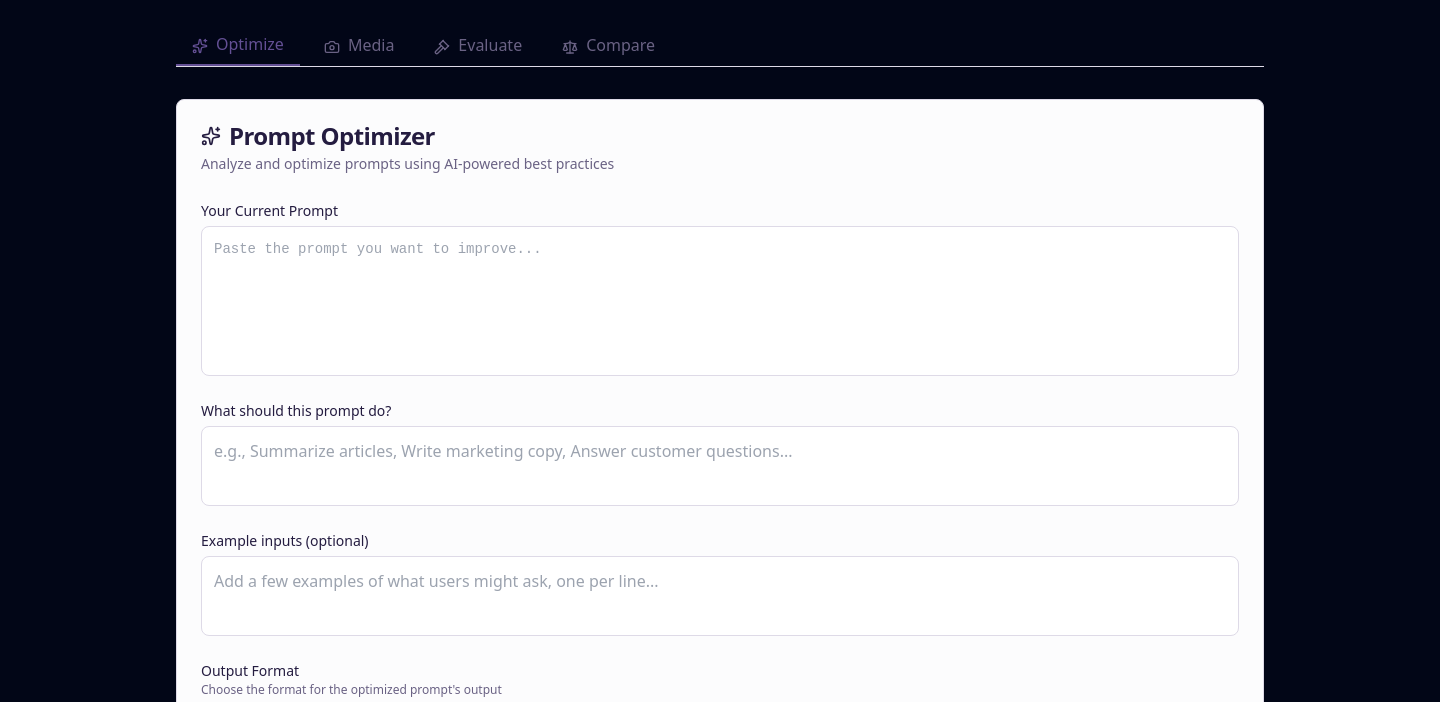
Test: Agents Page - Optimize Prompt Button › shows loading state when button is clicked
The width and height of the screenshot is (1440, 702).
Type "You are a helpful assistant." into the text box with placeholder "Paste the prompt you want to improve..." at (720, 301), box [201,226,1239,376]
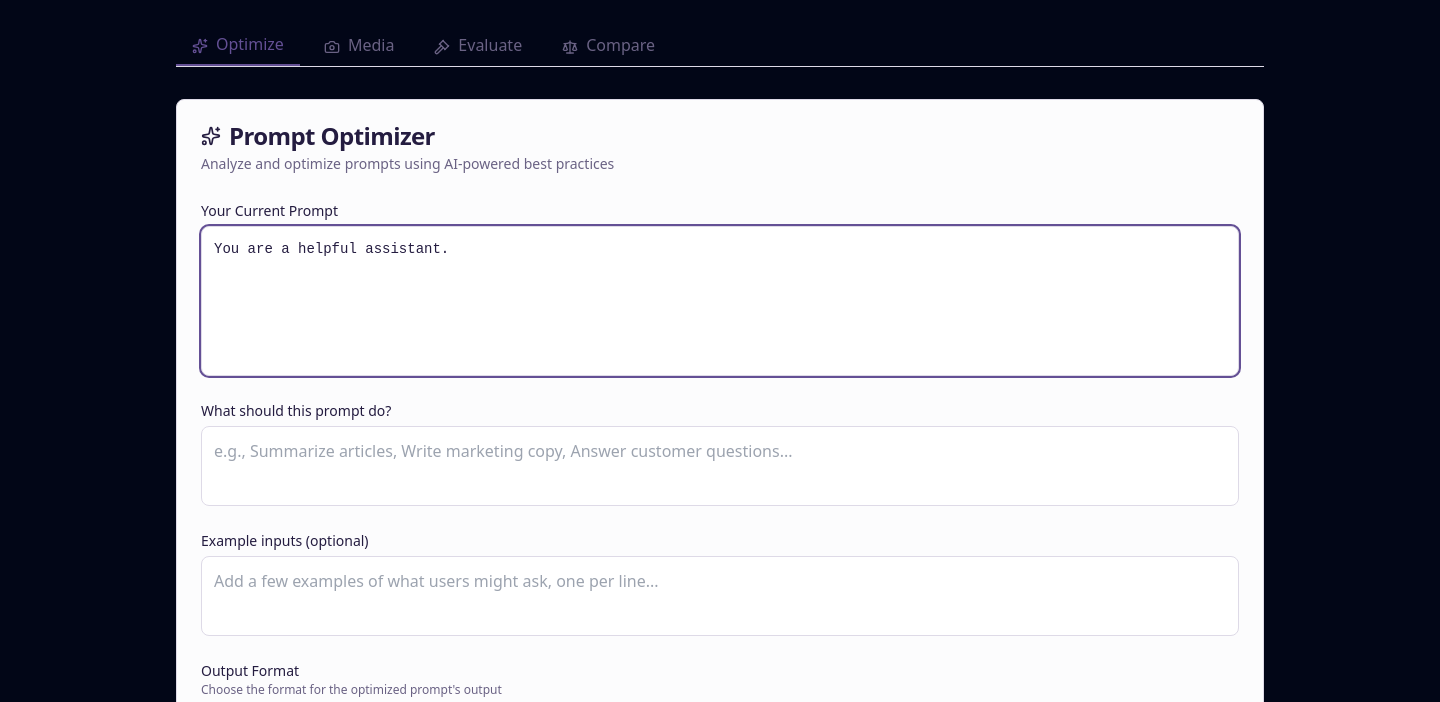
Type "Answer user questions" into the text box with placeholder "Summarize articles" at (720, 466), box [201,426,1239,506]
(page scrolled)
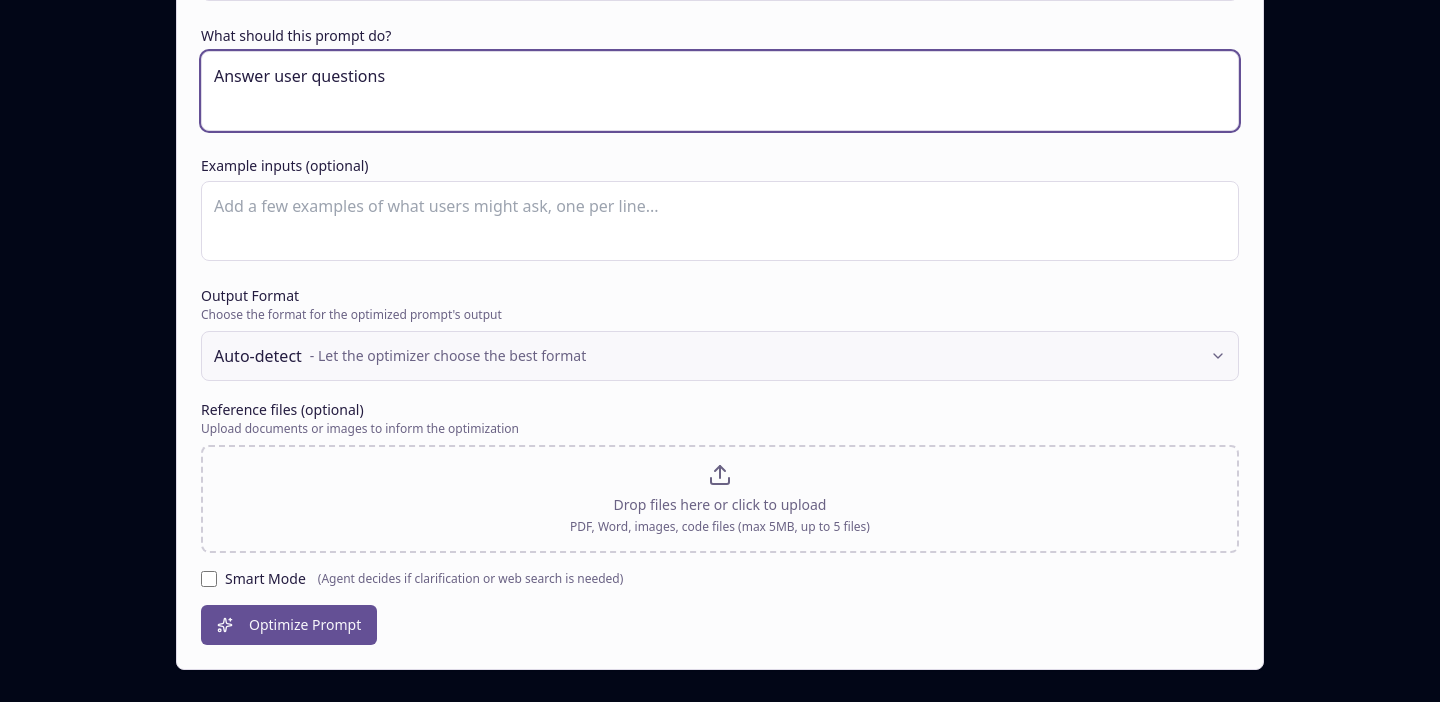
Note: Click the button
Click the button "Optimize Prompt" at (289, 625), box [201,605,377,645]
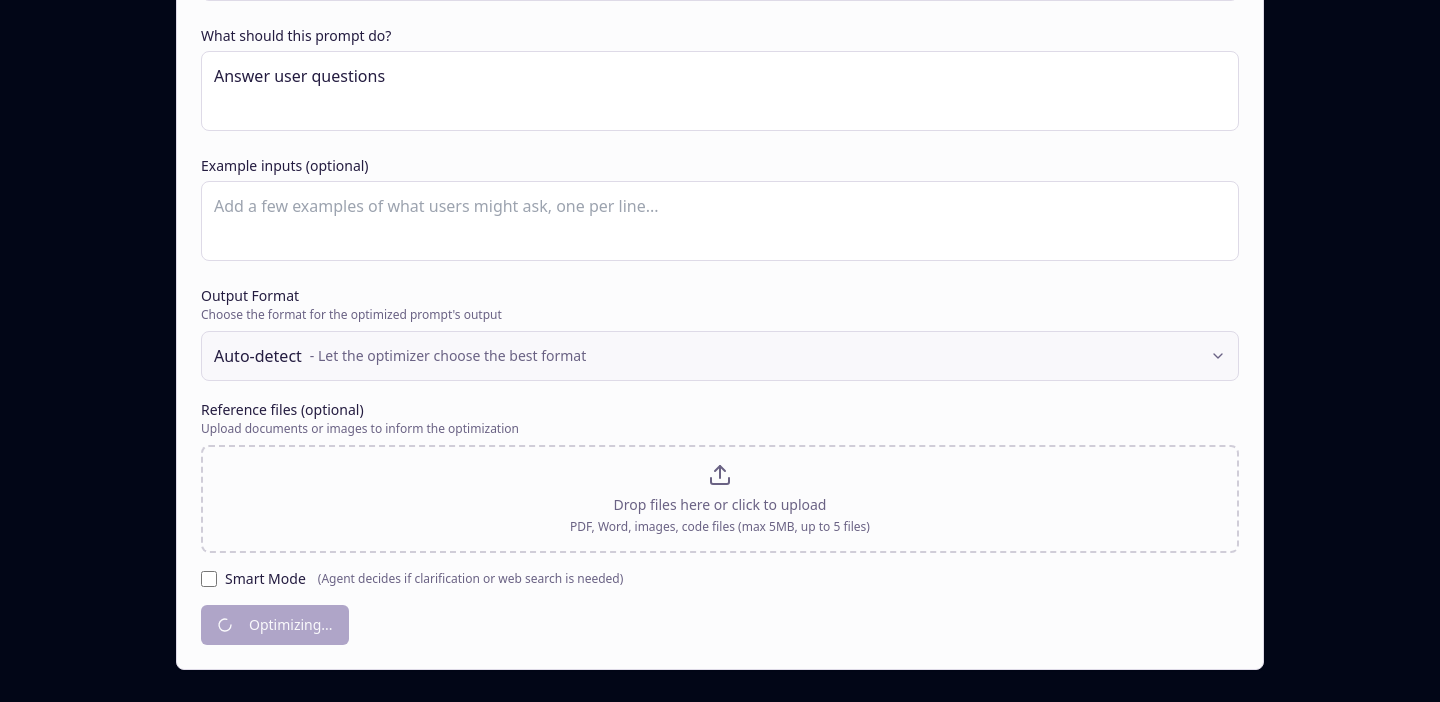
Expected: the button "Optimizing..." is disabled, [201,605,349,645]
